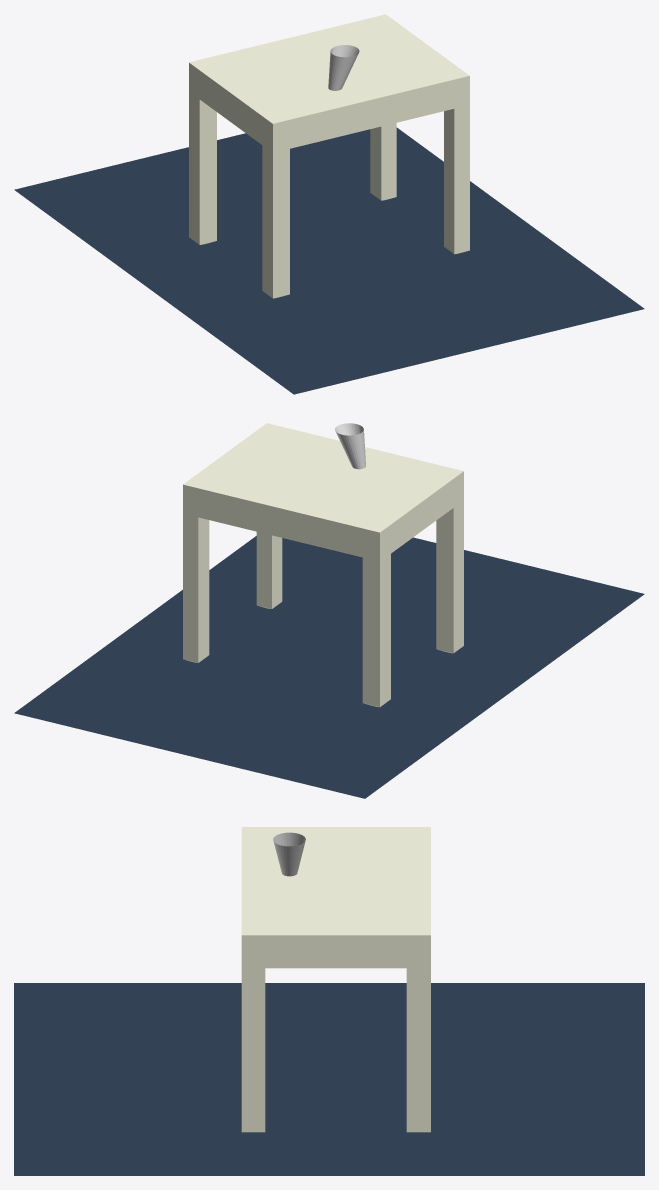
Rendered from Labo 1.fbx.
The picture shows the model from 3 angles, top to bottom: view 1: azimuth 30°, elevation 25°; view 2: azimuth 150°, elevation 25°; view 3: azimuth 270°, elevation 25°; orthographic projection. The views are drawn at different scales.
Parts seen in each view (by area): view 1: Plan, Cube, Cylindre; view 2: Plan, Cube, Cylindre; view 3: Plan, Cube, Cylindre.
Part boxes in pixels (x1,y1,x2,y2): Plan: (14, 127, 644, 394); Cube: (189, 14, 469, 298); Cylindre: (328, 45, 359, 90); Plan: (14, 536, 644, 798); Cube: (183, 423, 463, 707); Cylindre: (335, 423, 365, 469); Plan: (14, 983, 644, 1175); Cube: (241, 827, 430, 1132); Cylindre: (273, 832, 305, 876).
Bounding box in the file's own units: 748 × 431 × 1033.
